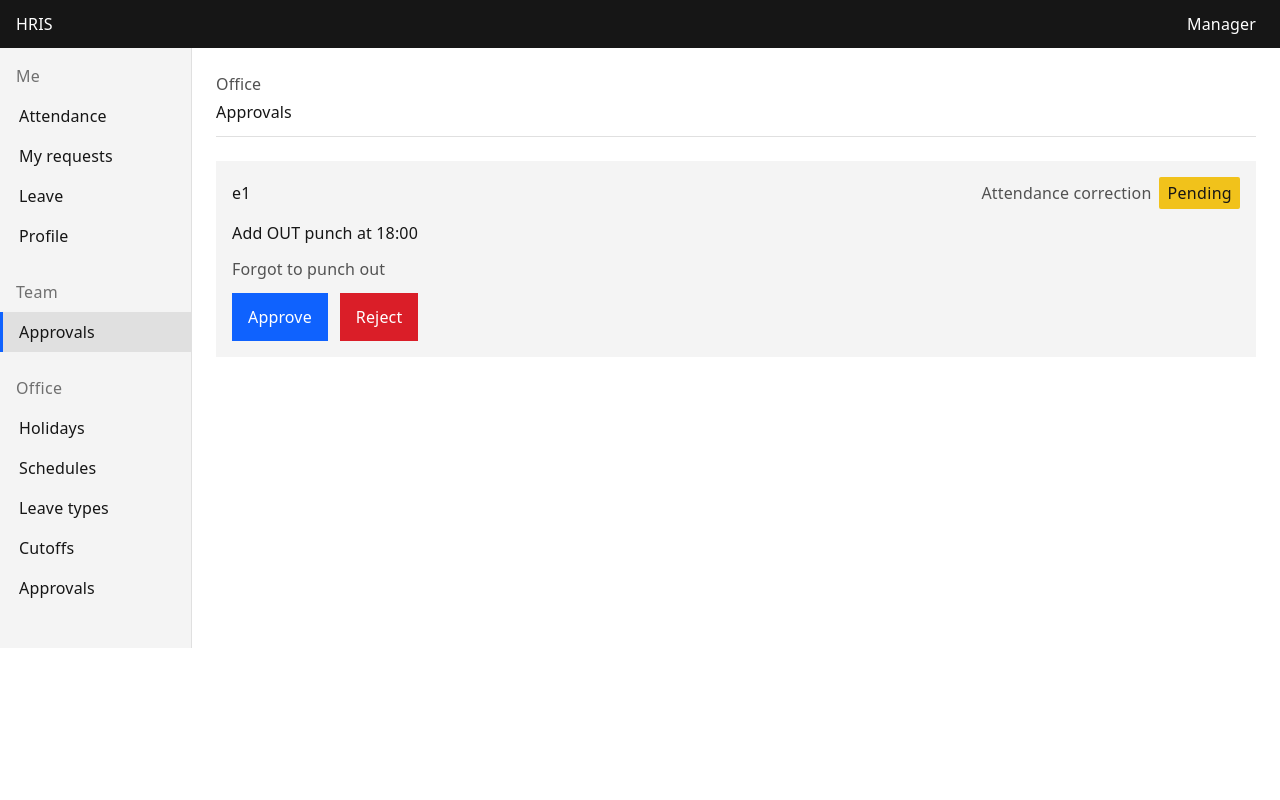
Test case: /office/approvals — same queue behavior, office scope › a cutoff_locked refusal rolls the card back AND surfaces the domain error message
Expected: the text "Forgot to punch out" is shown, [232,258,385,280]
Click the button "Approve": (280, 317) [232,293,328,341]
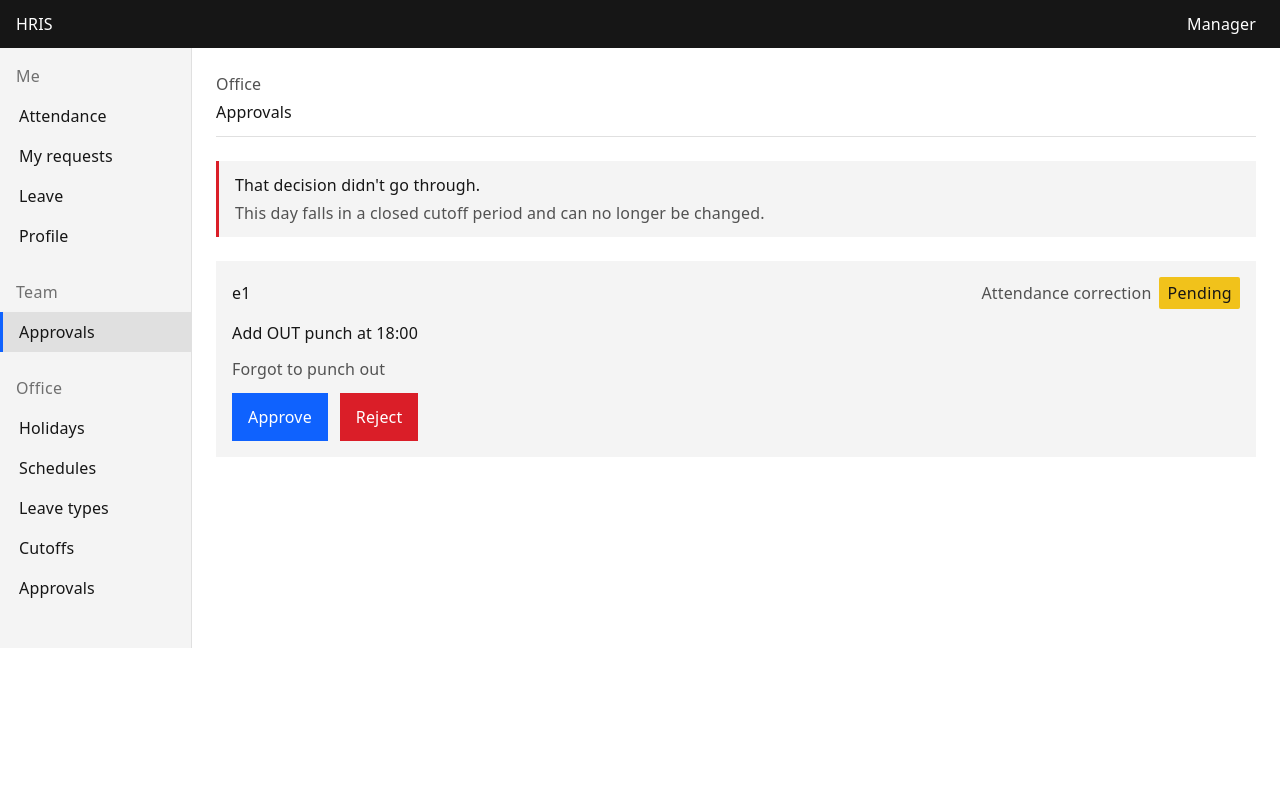
Expected: the text "Forgot to punch out" is shown, [232,358,385,380]
Result: the text "This day falls in a closed cutoff period and can no longer be changed." is shown at [235,202,765,224]
